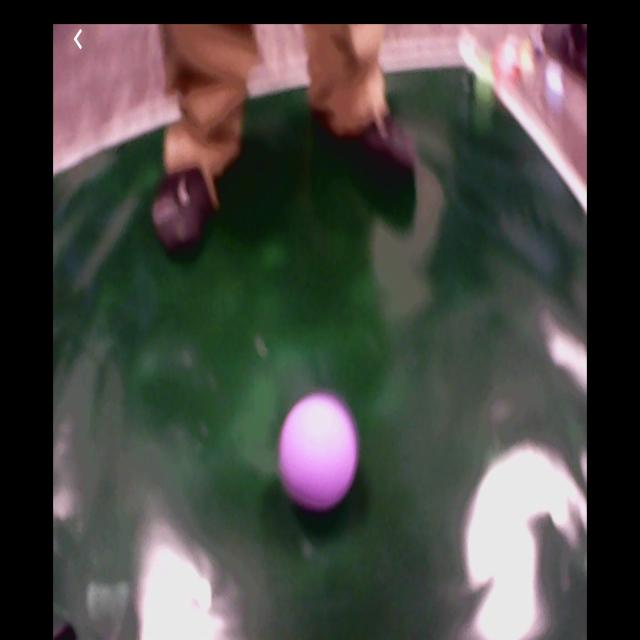ball: (280, 397, 360, 508)
